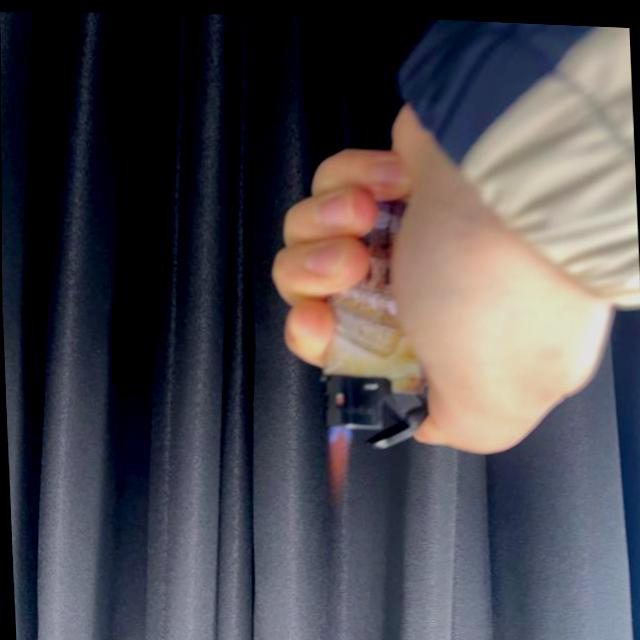helmet: (319, 421, 356, 495)
